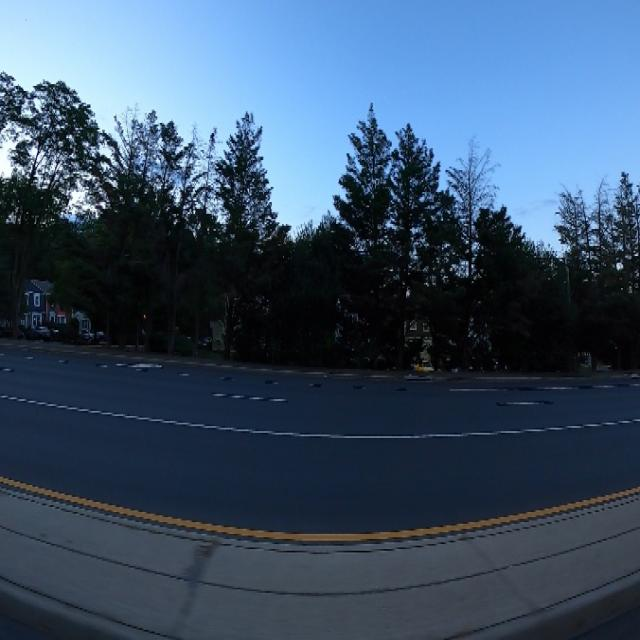cars: (414, 358, 436, 376)
